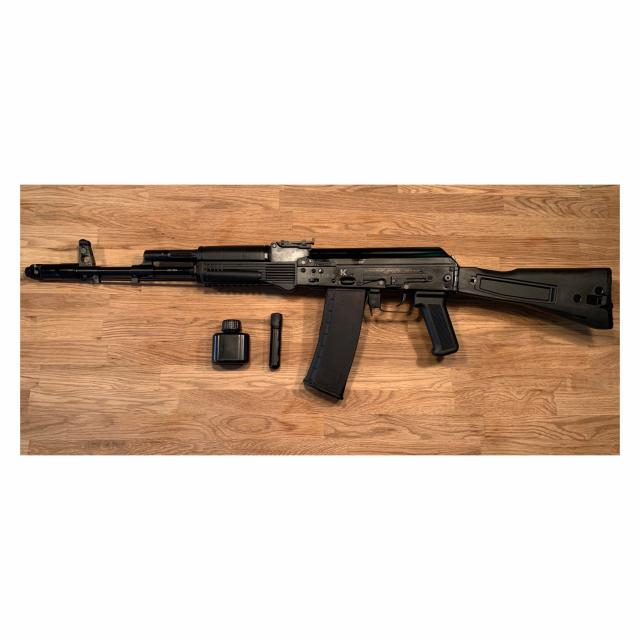heavy-weapon: (23, 238, 614, 401)
